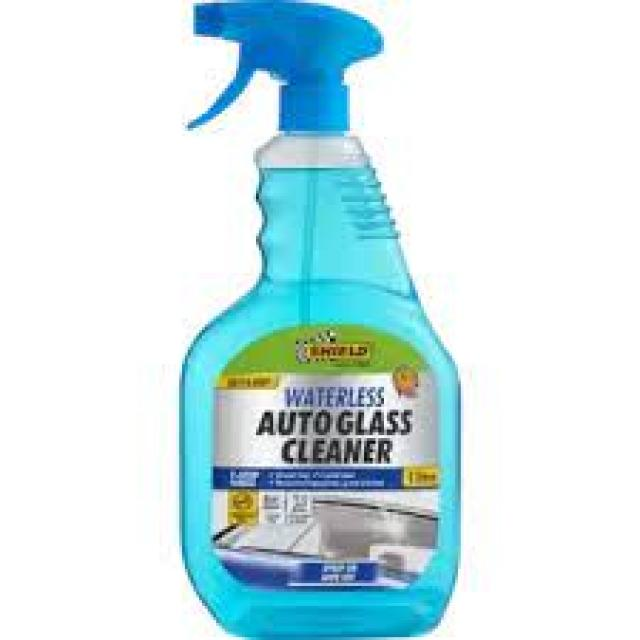winwinshield_washer: (172, 1, 472, 640)
